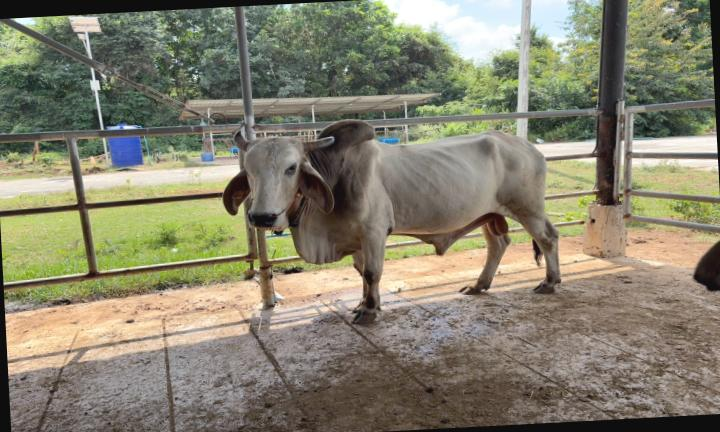Brahman: (223, 119, 560, 322)
